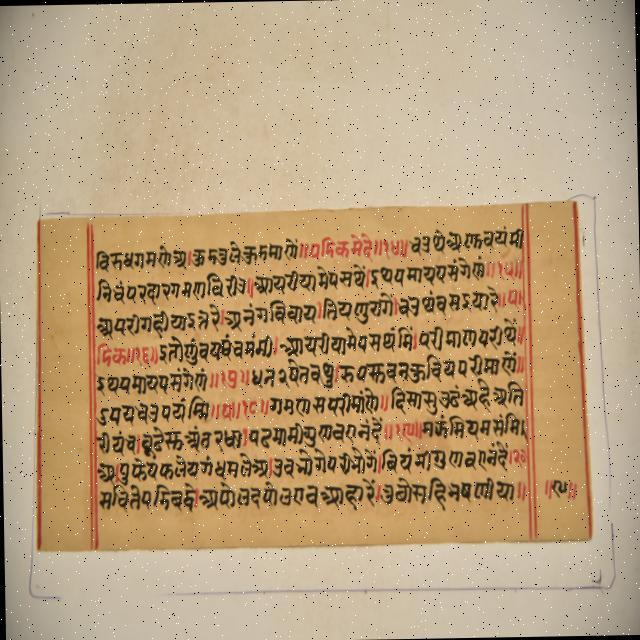text_paragraph: (34, 199, 592, 550)
